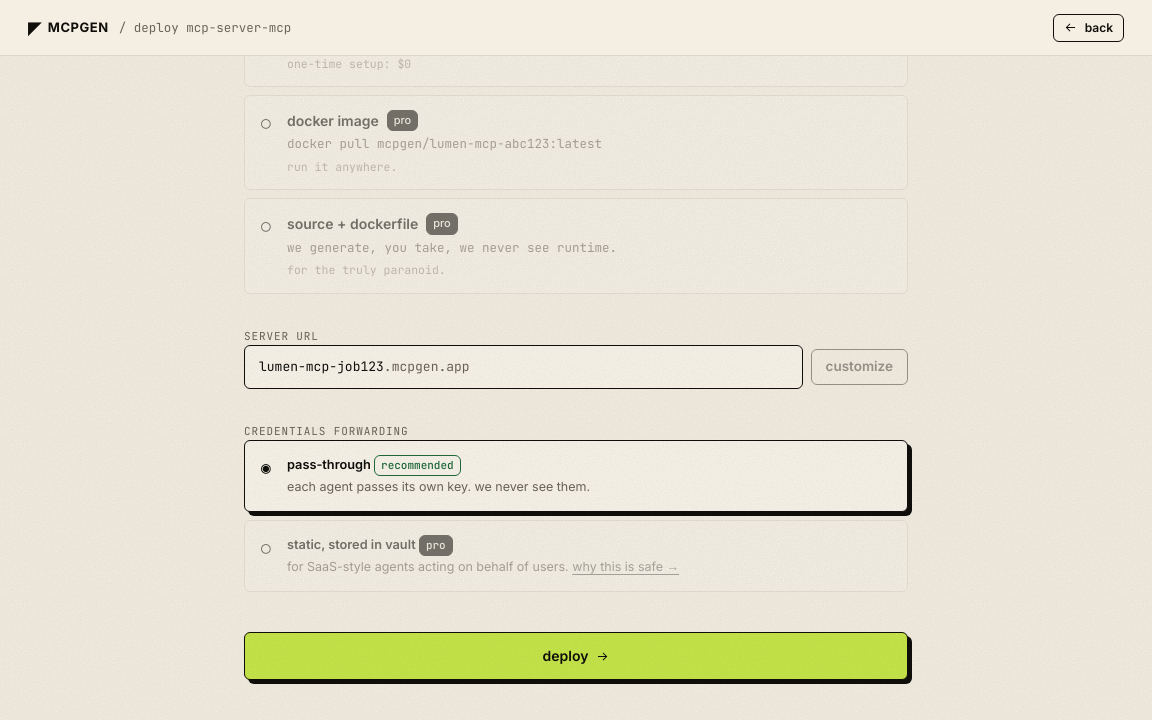
<Deploy> › surfaces real BFF error code (no_anon_session) when mutation fails
(page scrolled)
Click the button "deploy" at (576, 656), box 244,632 -> 908,680
(page scrolled)
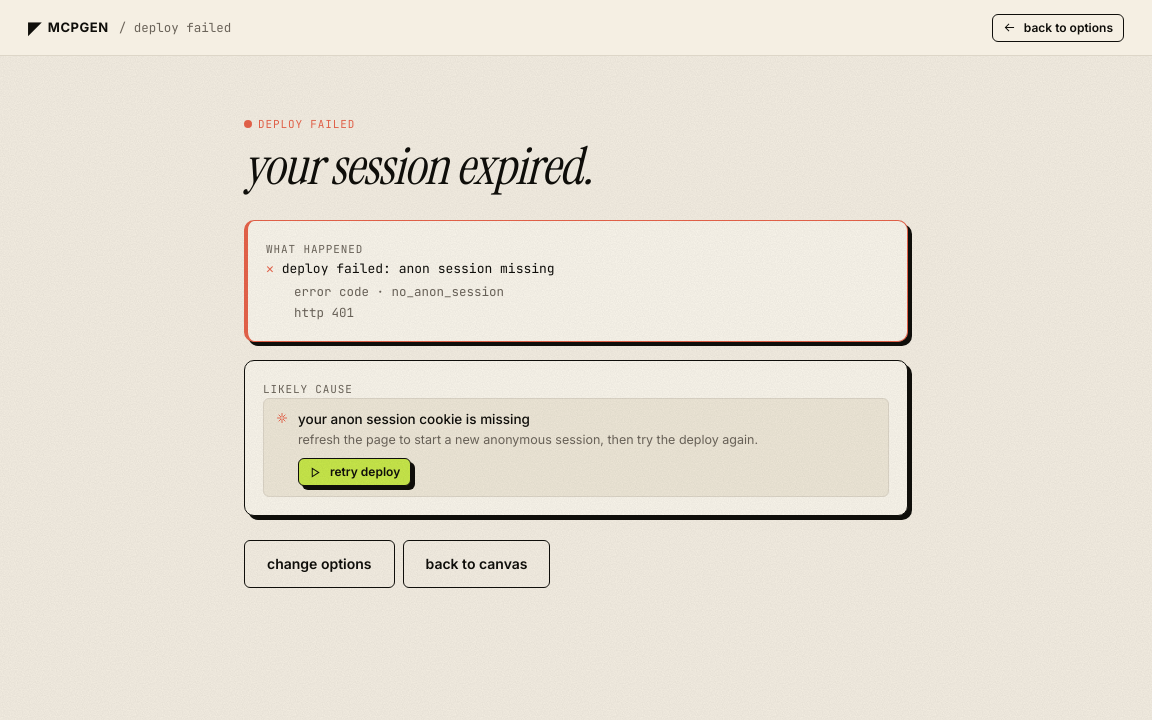
Now the text "anon session missing" is shown, box 282,260 -> 555,278
Now the text "no_anon_session" is shown, box 392,283 -> 504,300
Now the text "refresh the page" is shown, box 298,432 -> 758,447
